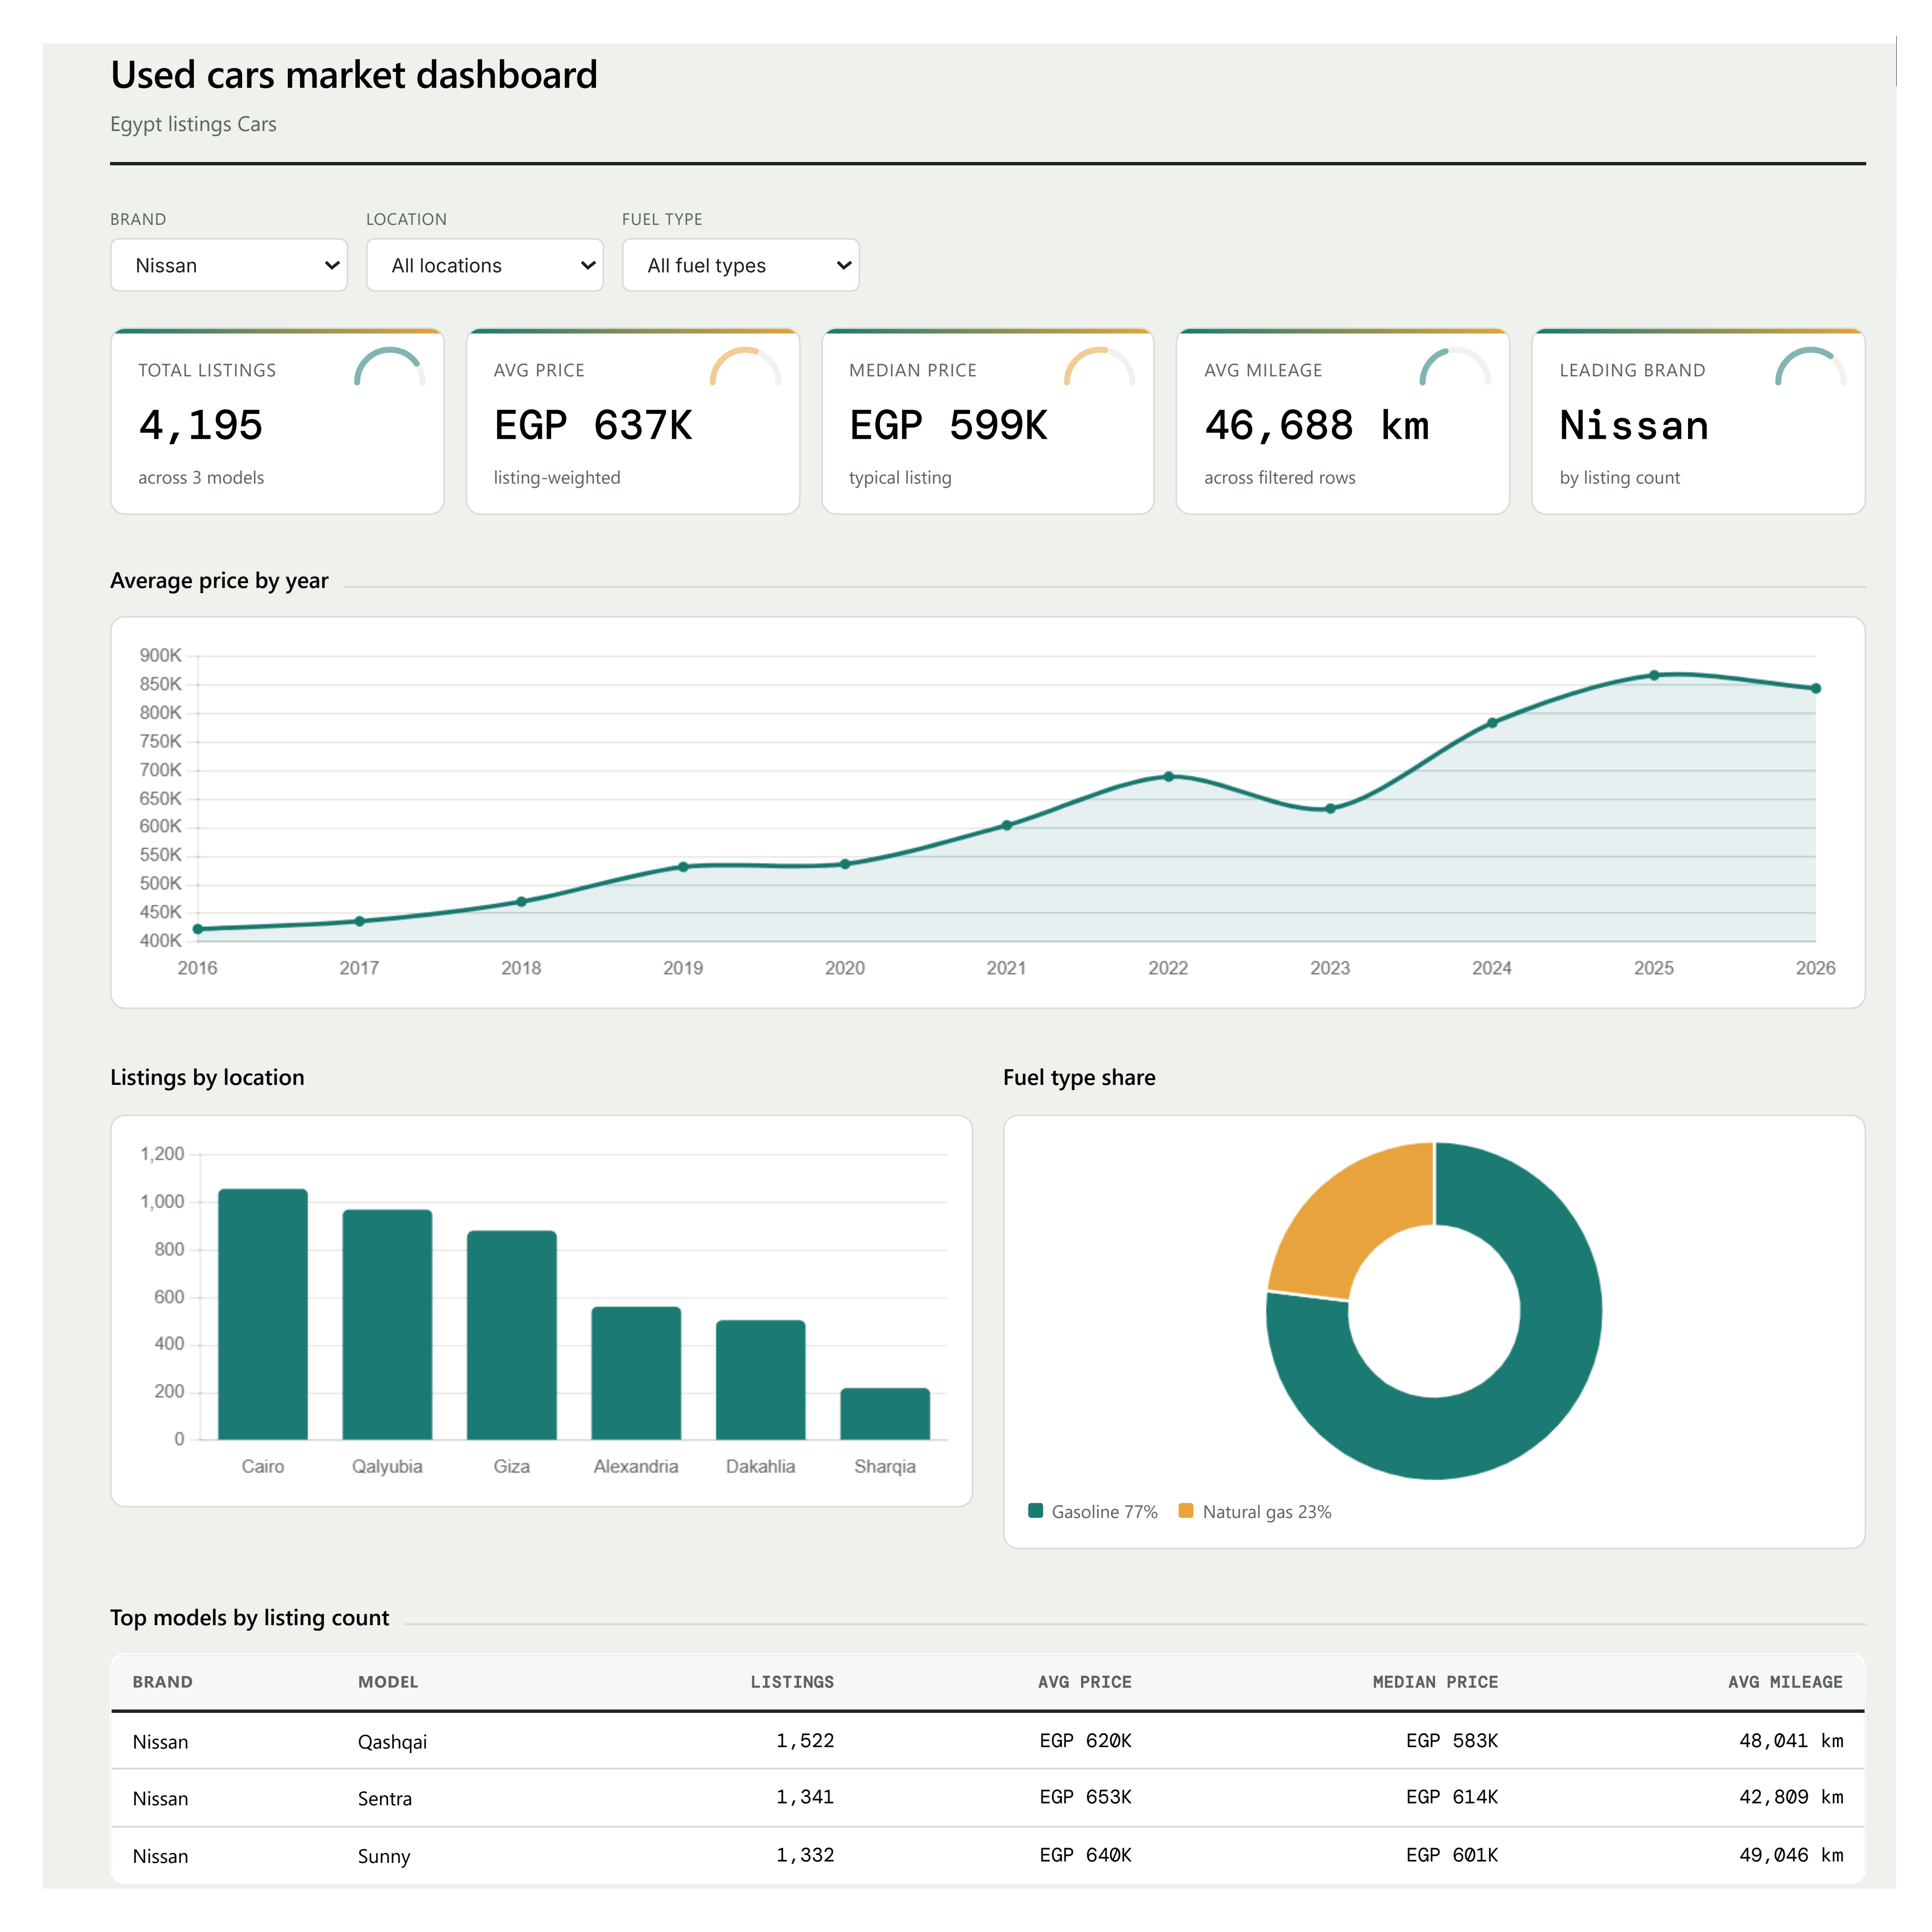

Layout of this report page (visuals, bound fields, positions):
{"tool":"powerbi","page":{"name":"Page 1","canvas":[1280,720],"ordinal":0},"visuals":[{"type":"htmlContent443BE3AD55E043BF878BED274D3A6855","fields":{"content":["gold_fuel_transmission.UsedCarDashboardHTML"]},"box":[0,0,1280,720],"z":0}]}

Visuals, with their boxes on the page's 1280x720 design canvas (x1, y1, x2, y2). These are canvas units, not pixel positions in the 1932x1932 screenshot, which may show the page scaled, cropped or inside an application window:
htmlContent443BE3AD55E043BF878BED274D3A6855 - gold_fuel_transmission.UsedCarDashboardHTML: bbox=[0, 0, 1280, 720]
